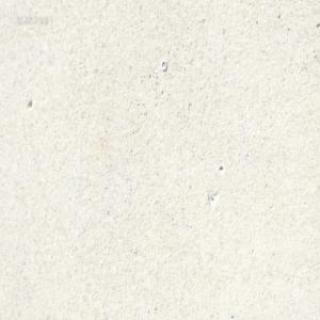Washertrack_idkeyframe: (160, 60, 167, 71)
